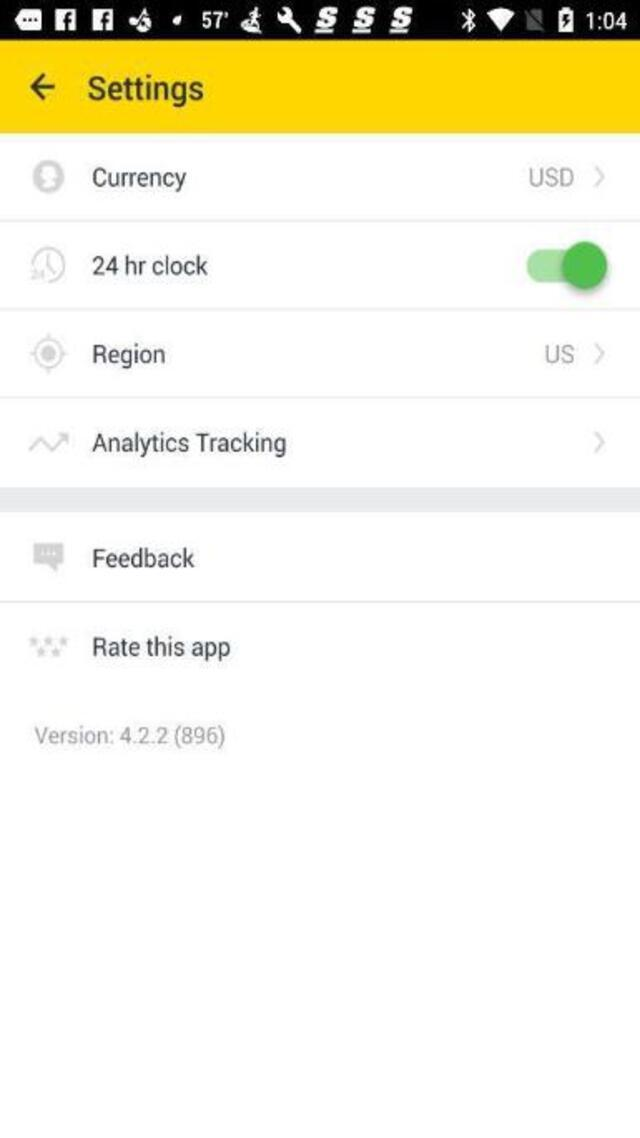CheckedTextView: (523, 240, 610, 296)
Icon: (28, 332, 68, 376), (29, 247, 66, 284), (34, 159, 66, 193), (32, 544, 64, 574), (30, 634, 70, 657), (30, 432, 70, 454), (30, 73, 53, 101), (592, 166, 604, 190), (594, 430, 606, 452), (592, 341, 604, 362)
Text: (91, 430, 285, 456), (33, 724, 223, 748), (87, 73, 202, 108), (93, 634, 229, 659), (92, 255, 207, 276), (93, 167, 186, 192), (92, 548, 194, 569), (92, 343, 164, 368), (528, 168, 572, 188), (544, 343, 572, 364)
